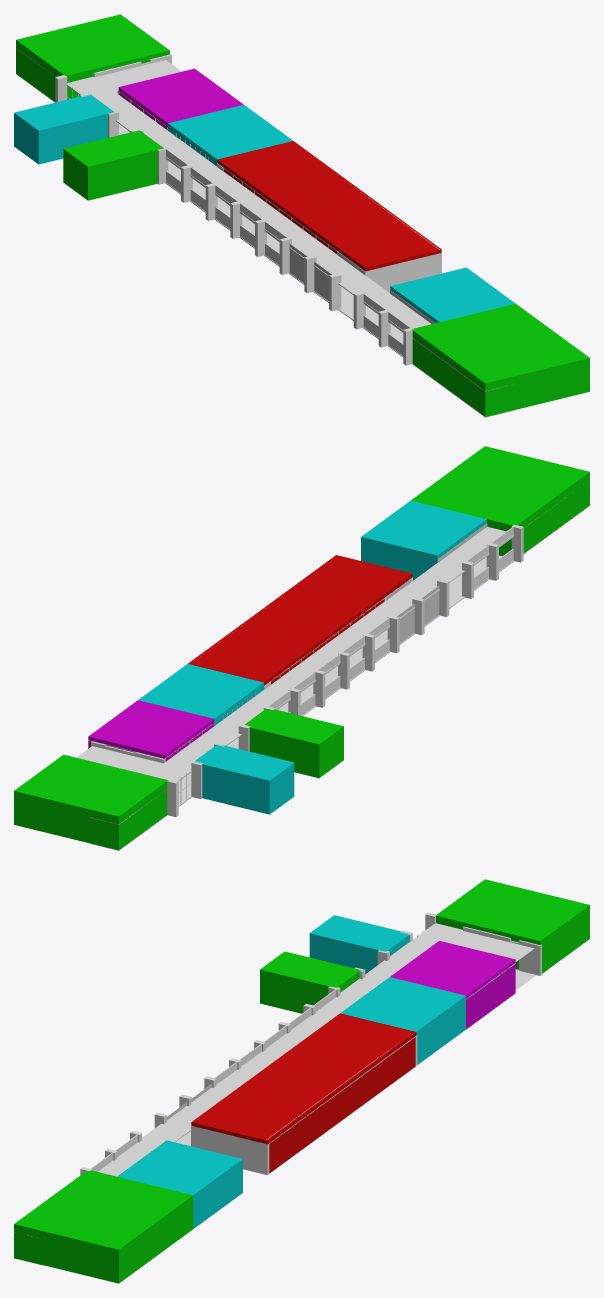
Rendered from BaseModel_Ver3_1F.fbx.
The picture shows the model from 3 angles, top to bottom: view 1: azimuth 30°, elevation 25°; view 2: azimuth 150°, elevation 25°; view 3: azimuth 330°, elevation 25°; orthographic projection.
Parts seen in each view (by area): view 1: 部屋.002, 職員室.001, 床.002, 部屋, 部屋.003, 部屋.004, 事務室.001, 校長室, 部屋.001, 床.000, Mesh.027, 事務室.006 (+2 smaller); view 2: 職員室.001, 部屋, 部屋.002, 床.002, 部屋.001, 部屋.004, 部屋.003, 事務室.001, 校長室, 床.000, 事務室.006, Cube.017 (+1 smaller); view 3: 職員室.001, 部屋.002, 部屋, 床.002, 部屋.001, 事務室.001, 校長室, 部屋.003, 部屋.004, Mesh.027, 事務室.006, Cube.017.
Part boxes in pixels (<box>): 部屋.002: <box>411,303,589,417</box>; 職員室.001: <box>217,141,441,271</box>; 床.002: <box>18,49,513,391</box>; 部屋: <box>16,14,169,101</box>; 部屋.003: <box>63,130,163,200</box>; 部屋.004: <box>14,94,114,164</box>; 事務室.001: <box>118,68,243,129</box>; 校長室: <box>168,105,292,166</box>; 部屋.001: <box>390,267,515,322</box>; 床.000: <box>16,73,513,417</box>; Mesh.027: <box>365,253,441,287</box>; 事務室.006: <box>95,60,181,93</box>; 職員室.001: <box>188,555,412,685</box>; 部屋: <box>14,754,168,850</box>; 部屋.002: <box>411,446,589,556</box>; 床.002: <box>90,482,586,824</box>; 部屋.001: <box>361,500,486,580</box>; 部屋.004: <box>195,744,294,814</box>; 部屋.003: <box>244,708,343,778</box>; 事務室.001: <box>88,700,214,761</box>; 校長室: <box>138,664,263,725</box>; 床.000: <box>90,505,589,850</box>; 事務室.006: <box>76,746,162,774</box>; Cube.017: <box>268,616,390,709</box>; 職員室.001: <box>191,1013,416,1173</box>; 部屋.002: <box>14,1170,193,1283</box>; 部屋: <box>436,879,589,973</box>; 床.002: <box>15,923,462,1237</box>; 部屋.001: <box>117,1140,242,1228</box>; 事務室.001: <box>390,941,515,1028</box>; 校長室: <box>340,977,465,1064</box>; 部屋.003: <box>260,951,360,1013</box>; 部屋.004: <box>309,915,410,973</box>; Mesh.027: <box>191,1126,269,1164</box>; 事務室.006: <box>447,931,534,961</box>; Cube.017: <box>213,989,336,1084</box>.
Size of the model in its own units: 1910 by 347 by 8550.
